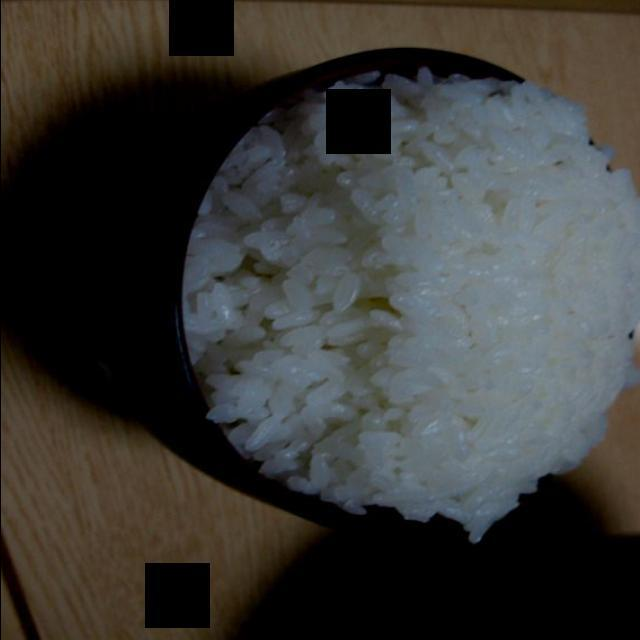rice: (182, 62, 640, 538)
